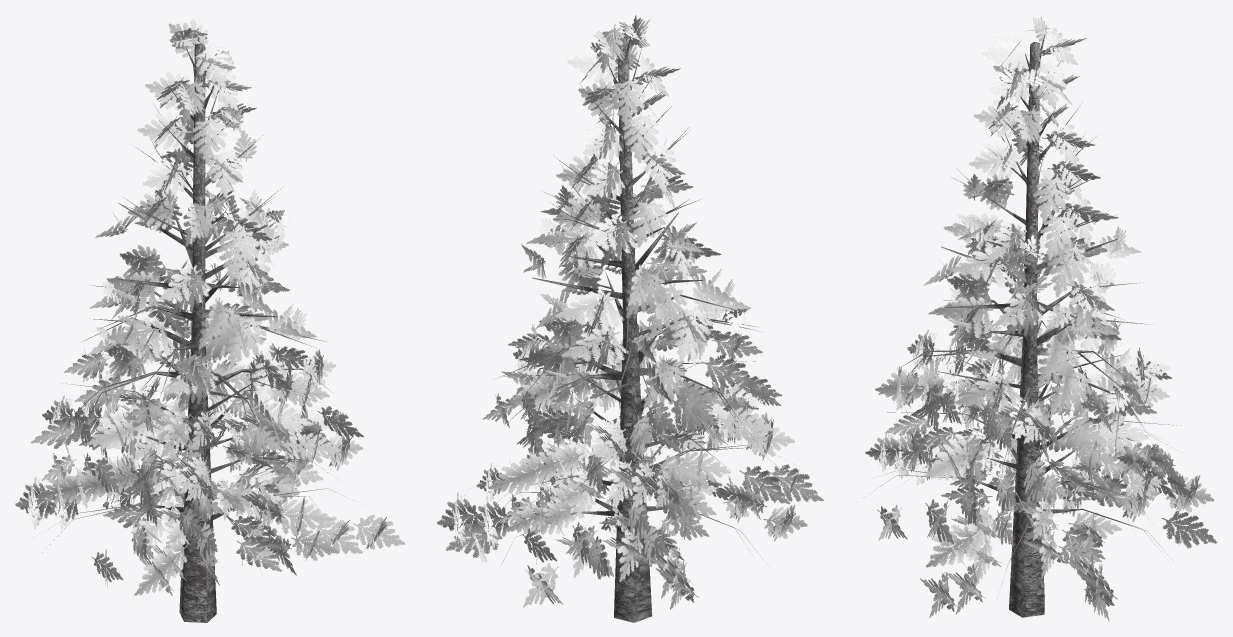
The model's file is Spruce_LOD0_v02.fbx.
The picture shows the model from 3 angles, left to right: view 1: azimuth 30°, elevation 25°; view 2: azimuth 150°, elevation 25°; view 3: azimuth 270°, elevation 25°; orthographic projection. The views are drawn at different scales.
Parts seen in each view (by area): view 1: leafcard_spruce_01_1, white-spruce-tree-bark-albedo_0; view 2: leafcard_spruce_01_1, white-spruce-tree-bark-albedo_0; view 3: leafcard_spruce_01_1, white-spruce-tree-bark-albedo_0.
Boxes of the visible parts, left/top/right/bottom form: leafcard_spruce_01_1: left=15, top=19, right=404, bottom=596; white-spruce-tree-bark-albedo_0: left=42, top=43, right=357, bottom=622; leafcard_spruce_01_1: left=437, top=15, right=823, bottom=609; white-spruce-tree-bark-albedo_0: left=473, top=33, right=787, bottom=622; leafcard_spruce_01_1: left=865, top=16, right=1216, bottom=621; white-spruce-tree-bark-albedo_0: left=880, top=34, right=1181, bottom=617.
Size of the model in its own units: 519 by 935 by 523.
